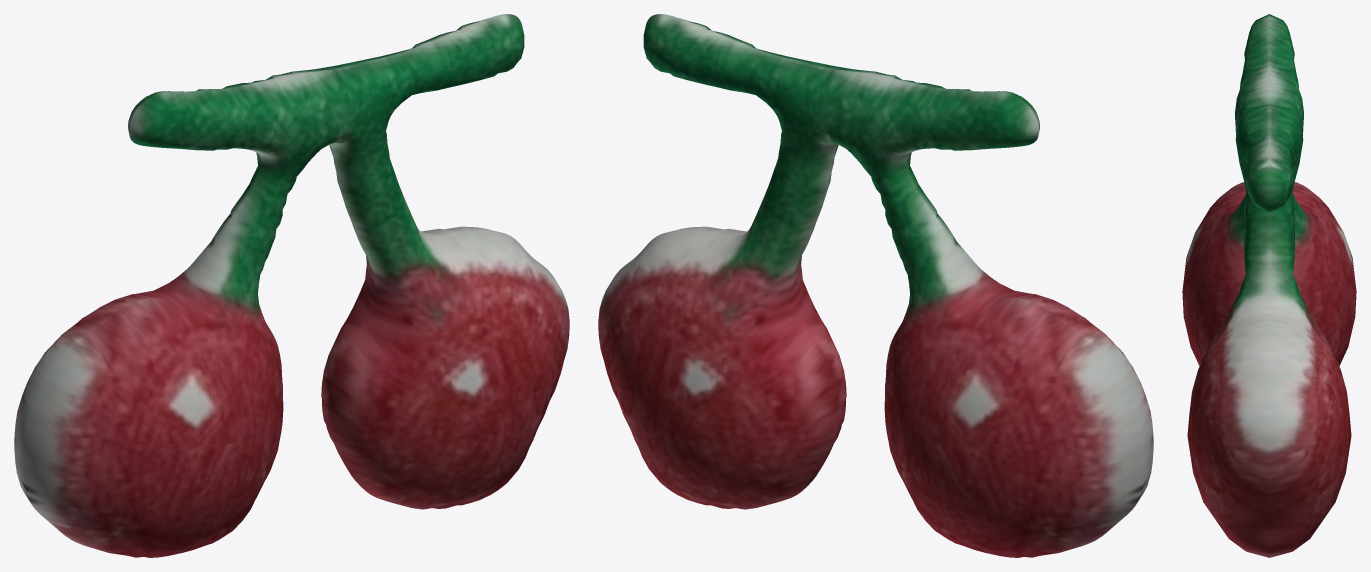
Rendered from cherry.glb.
The picture shows the model from 3 angles, left to right: view 1: azimuth 30°, elevation 25°; view 2: azimuth 150°, elevation 25°; view 3: azimuth 270°, elevation 25°; orthographic projection. The views are drawn at different scales.
Size of the model in its own units: 2.04 by 1.73 by 0.6668.
1 material, 1 textured.
